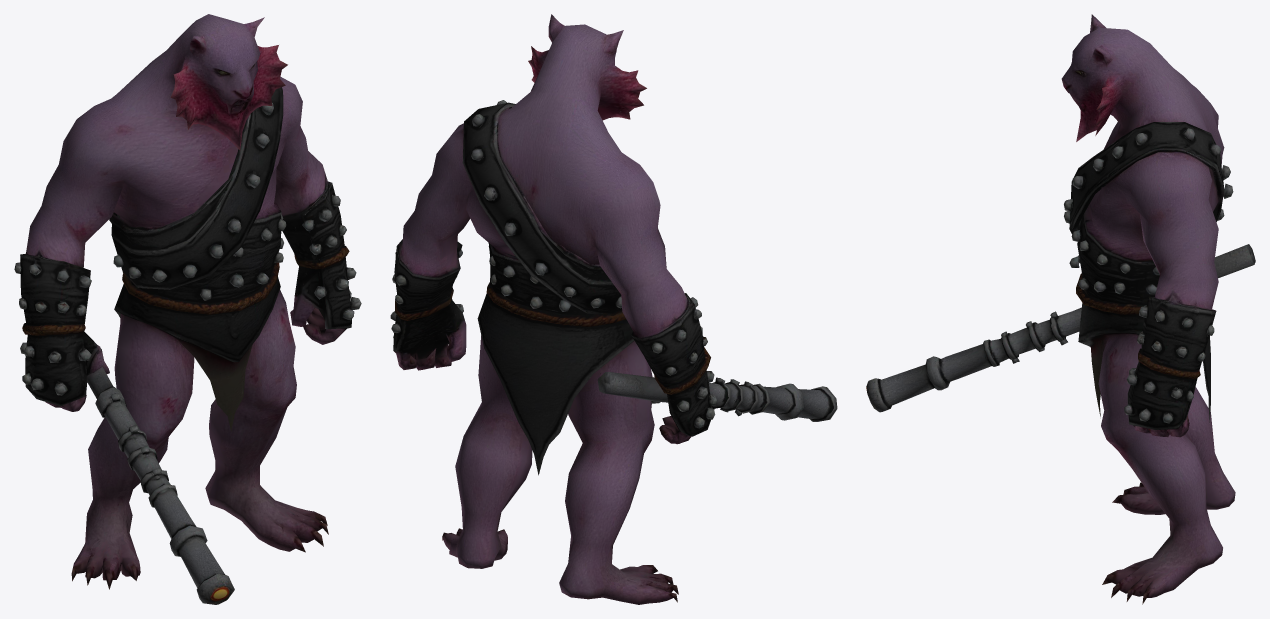
3 renders of one model, left to right at view 1: azimuth 30°, elevation 25°; view 2: azimuth 150°, elevation 25°; view 3: azimuth 270°, elevation 25°, orthographic. The views are drawn at different scales.
Visible parts, largest first — view 1: tripo_node_a46f8a20-2dda-4ba3-9600-e0002c651617; view 2: tripo_node_a46f8a20-2dda-4ba3-9600-e0002c651617; view 3: tripo_node_a46f8a20-2dda-4ba3-9600-e0002c651617.
Part boxes in pixels (left/top/right/bottom): tripo_node_a46f8a20-2dda-4ba3-9600-e0002c651617: left=14, top=14, right=361, bottom=604; tripo_node_a46f8a20-2dda-4ba3-9600-e0002c651617: left=390, top=14, right=837, bottom=604; tripo_node_a46f8a20-2dda-4ba3-9600-e0002c651617: left=866, top=14, right=1255, bottom=604.
Bounding box in the file's own units: 0.6152 × 0.998 × 0.6777.
1 material, 1 textured.
